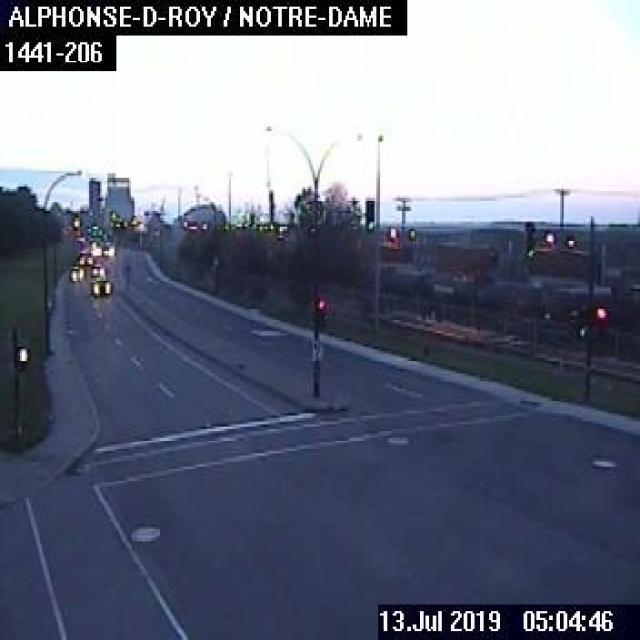vehicle: (85, 274, 116, 300), (64, 262, 86, 283), (88, 262, 105, 276), (75, 251, 92, 265)
